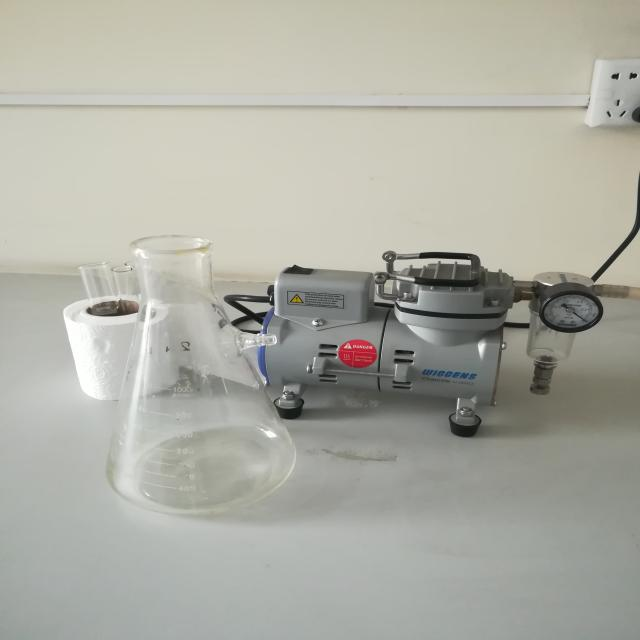Conical_Flask: (89, 207, 352, 536)
